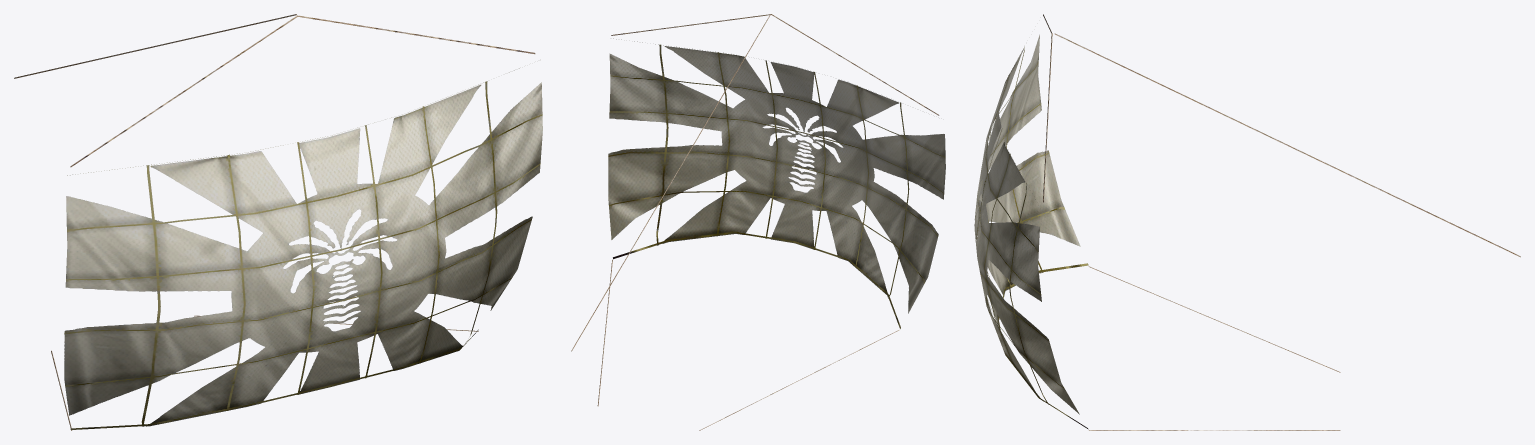
File: rome_bireme_mainsail.dae
3 renders of one model, left to right at view 1: azimuth 30°, elevation 25°; view 2: azimuth 150°, elevation 25°; view 3: azimuth 270°, elevation 25°, orthographic. The views are drawn at different scales.
Parts seen in each view (by area): view 1: Cube_002; view 2: Cube_002; view 3: Cube_002.
Boxes of the visible parts, x1=… form: Cube_002: x1=14, y1=14, x2=542, y2=430; Cube_002: x1=571, y1=14, x2=945, y2=430; Cube_002: x1=974, y1=14, x2=1520, y2=430.
Size of the model in its own units: 18.62 by 22.43 by 16.68.
